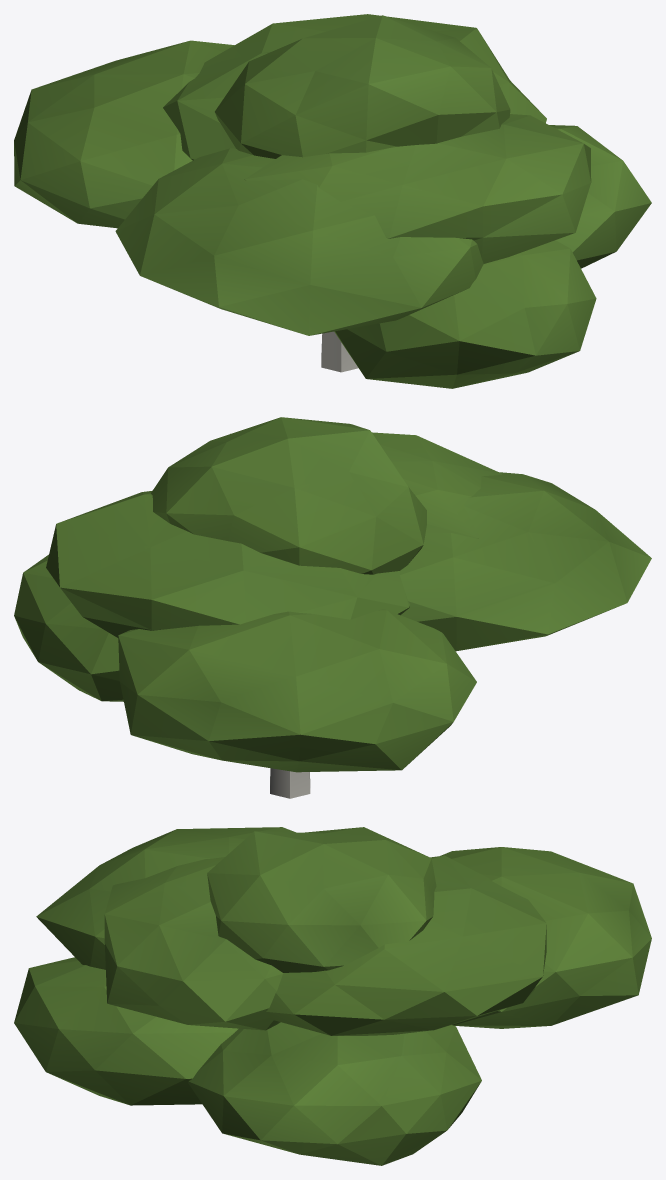
Rendered from veg_bjork_0.glb.
3 renders of one model, top to bottom at view 1: azimuth 30°, elevation 25°; view 2: azimuth 150°, elevation 25°; view 3: azimuth 270°, elevation 25°, orthographic. The views are drawn at different scales.
Visible parts, largest first — view 1: geometry_0; view 2: geometry_0; view 3: geometry_0.
Boxes of the visible parts, x1,y1,x2,y2 form: geometry_0: [14, 14, 651, 388]; geometry_0: [14, 417, 651, 798]; geometry_0: [14, 827, 651, 1165].
Bounding box in the file's own units: 1.69 × 1 × 1.87.
